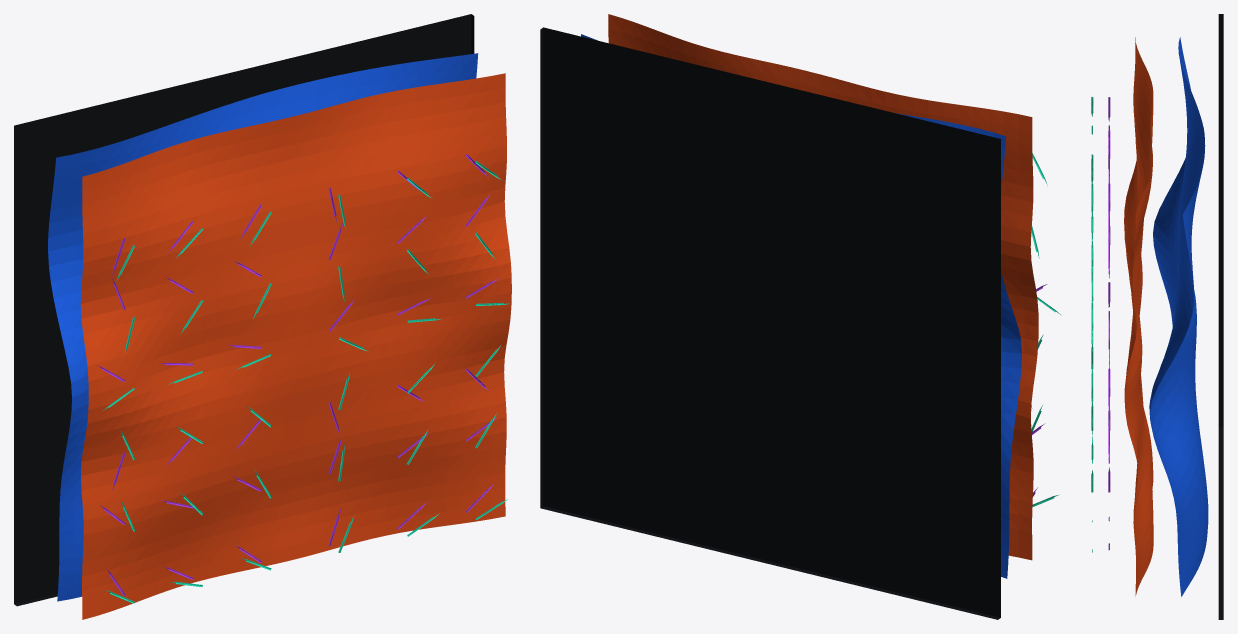
3 views of the same model, side by side, from view 1: azimuth 30°, elevation 25°; view 2: azimuth 150°, elevation 25°; view 3: azimuth 270°, elevation 25° (orthographic). The views are drawn at different scales.
Parts seen in each view (by area): view 1: mhd_orszag_tang_vortex; view 2: mhd_orszag_tang_vortex; view 3: mhd_orszag_tang_vortex.
Part boxes in pixels (x1,y1,x2,y2): mhd_orszag_tang_vortex: (14,14,511,619); mhd_orszag_tang_vortex: (540,14,1061,619); mhd_orszag_tang_vortex: (1091,14,1223,619).
Size of the model in its own units: 10.8 by 10.8 by 3.13.
